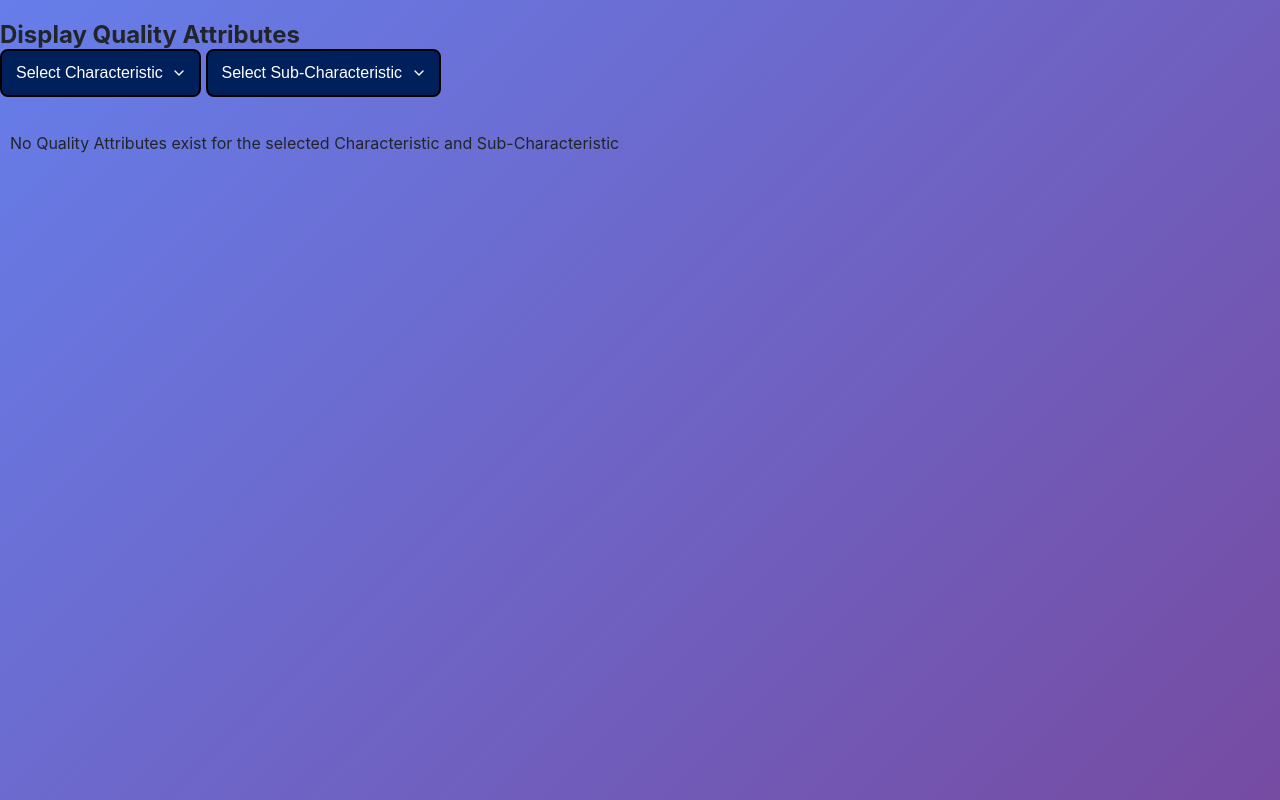
Test case: Requirements › clear characteristic
The width and height of the screenshot is (1280, 800).
Select "Performance" in the 1st dropdown: (100, 73) [0,49,201,97]
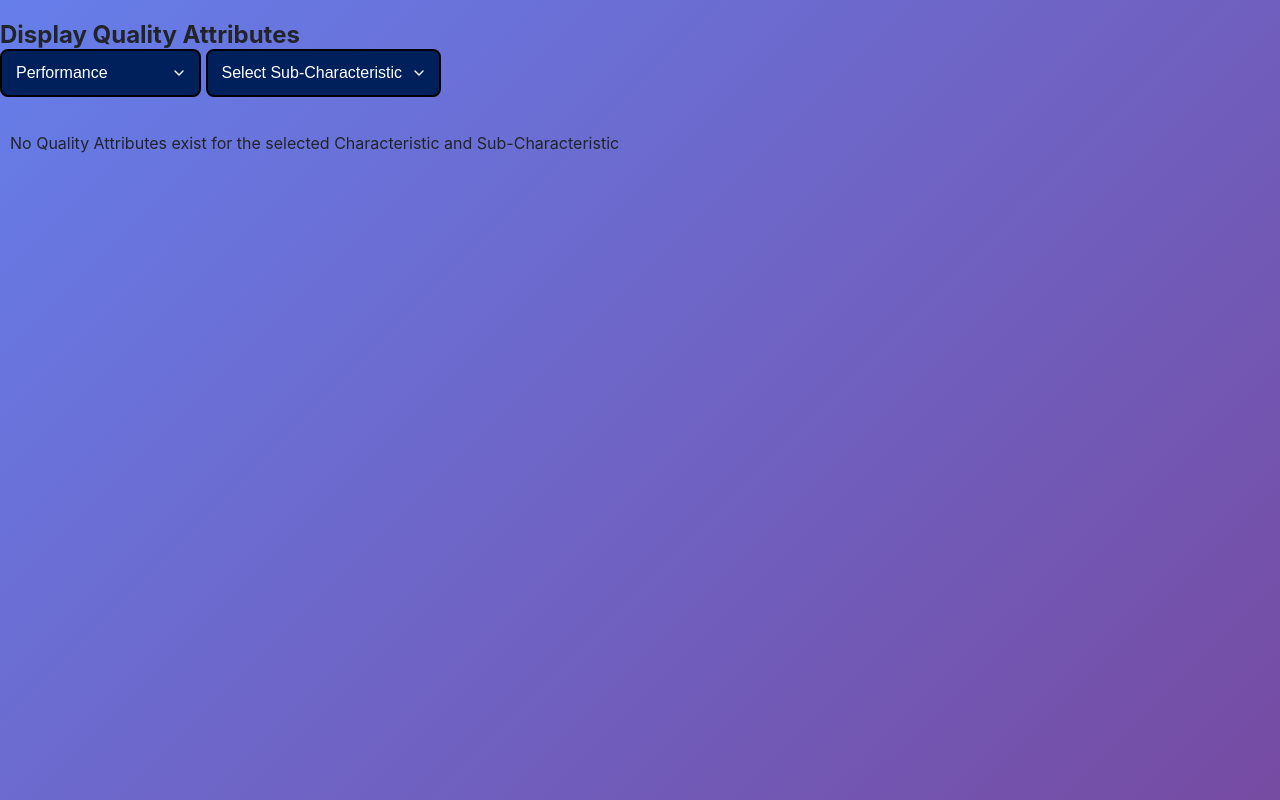
Select "Time Behaviour" in the 2nd dropdown: (323, 73) [206,49,440,97]
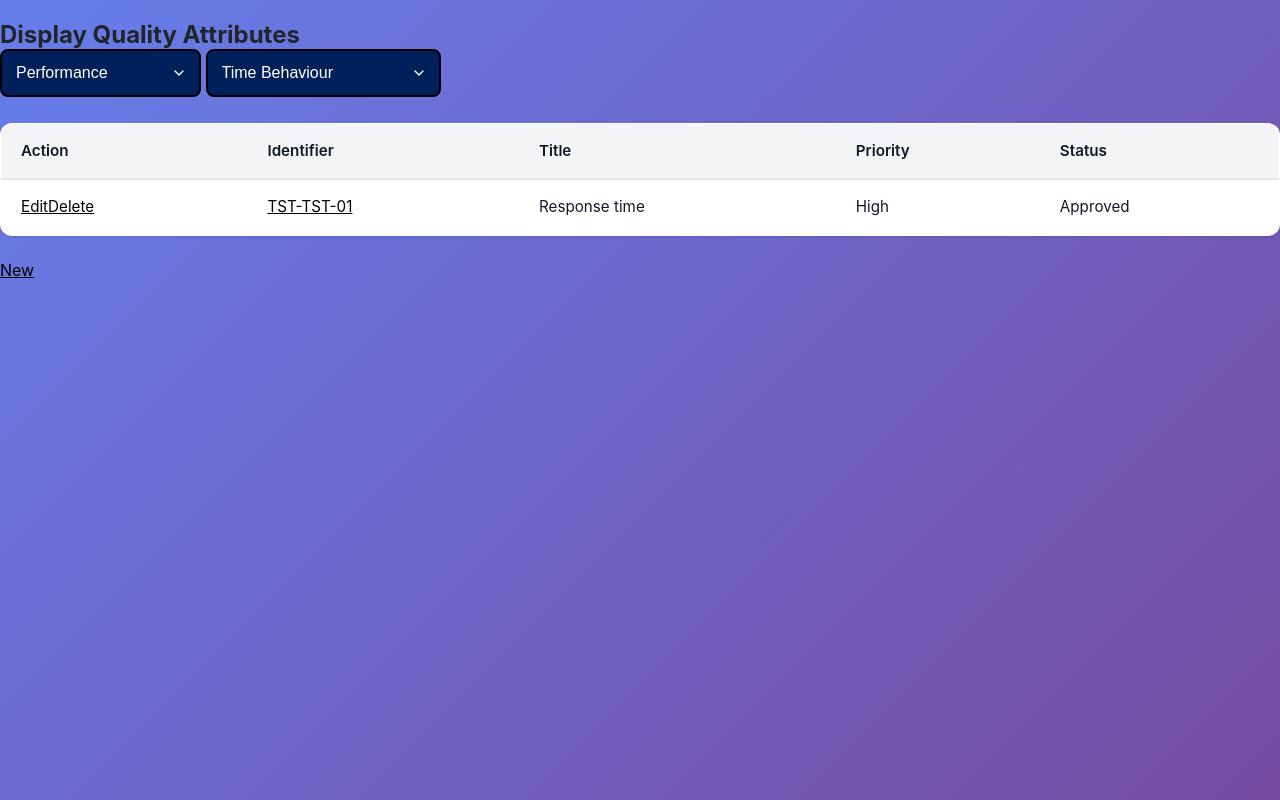
Expected: the link "TST-TST-01" is shown, [267,197,352,216]
Select "Select Characteristic" in the 1st dropdown: (100, 73) [0,49,201,97]
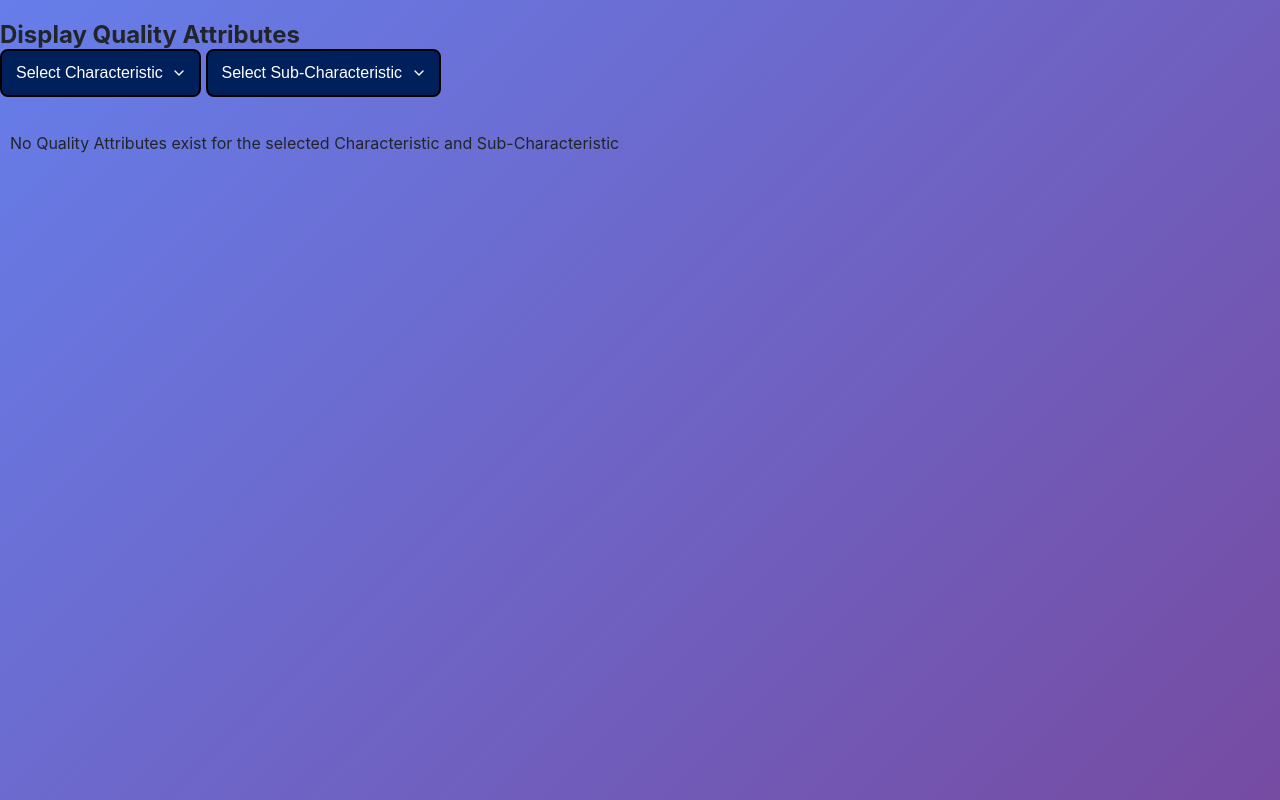
Expected: the option "Time Behaviour" is not shown
Expected: the link "TST-TST-01" is gone
Expected: the text "No Quality Attributes exist for the selected Characteristic and Sub-Characteristic" is shown, [10,133,619,153]
